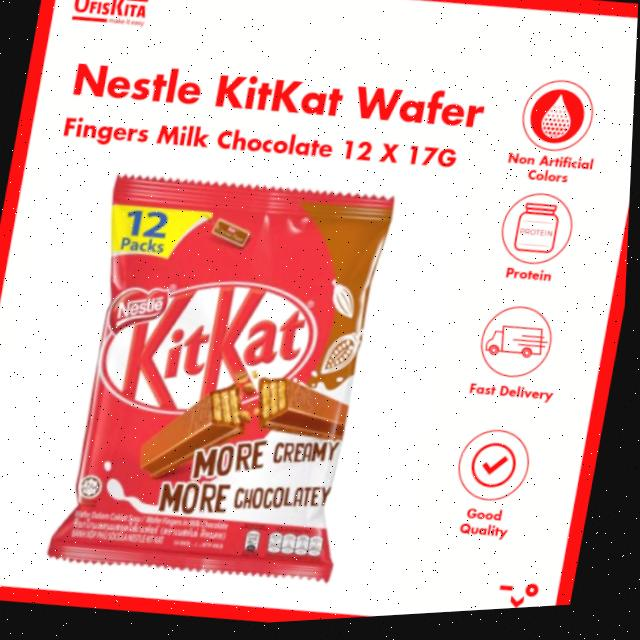kitkat: (47, 160, 408, 603)
